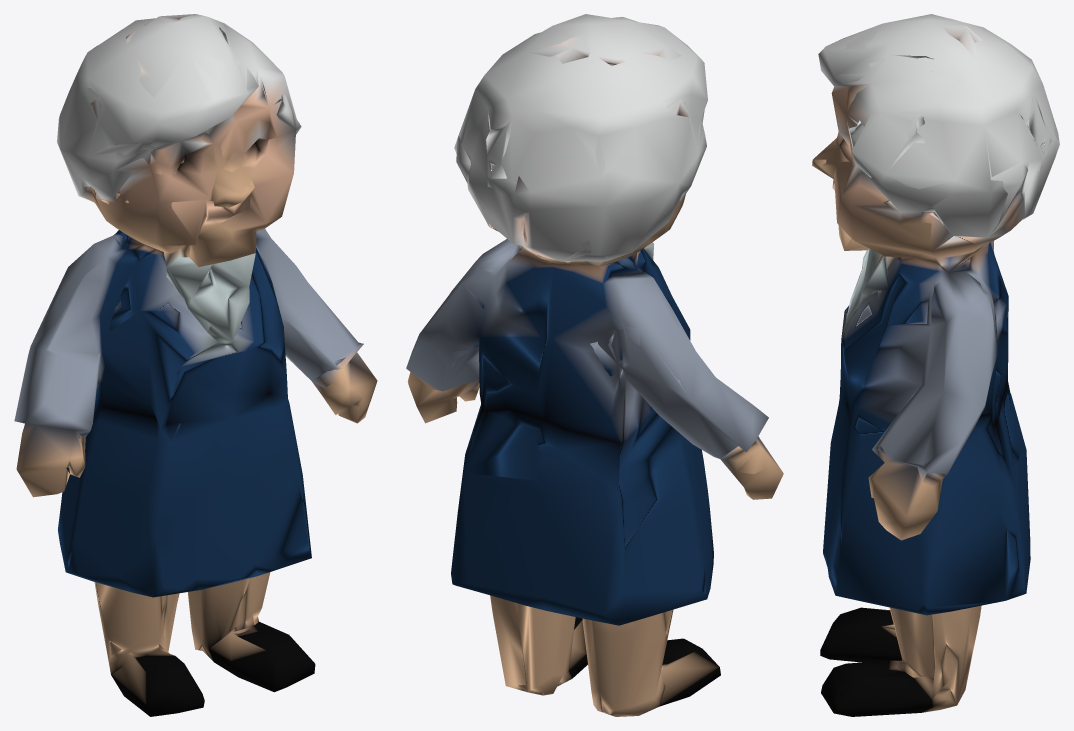
File: gen3d-grandma-lod0.glb
3 renders of one model, left to right at view 1: azimuth 30°, elevation 25°; view 2: azimuth 150°, elevation 25°; view 3: azimuth 270°, elevation 25°, orthographic. The views are drawn at different scales.
Parts seen in each view (by area): view 1: part_0; view 2: part_0; view 3: part_0.
Boxes of the visible parts, box(x1,y1,x2,y2) form: part_0: box(14, 14, 377, 716); part_0: box(406, 14, 783, 716); part_0: box(812, 14, 1059, 716).
Size of the model in its own units: 0.5877 by 1 by 0.3441.
